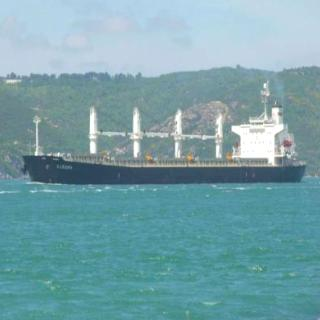Bulk Carrier: (15, 88, 311, 186)
